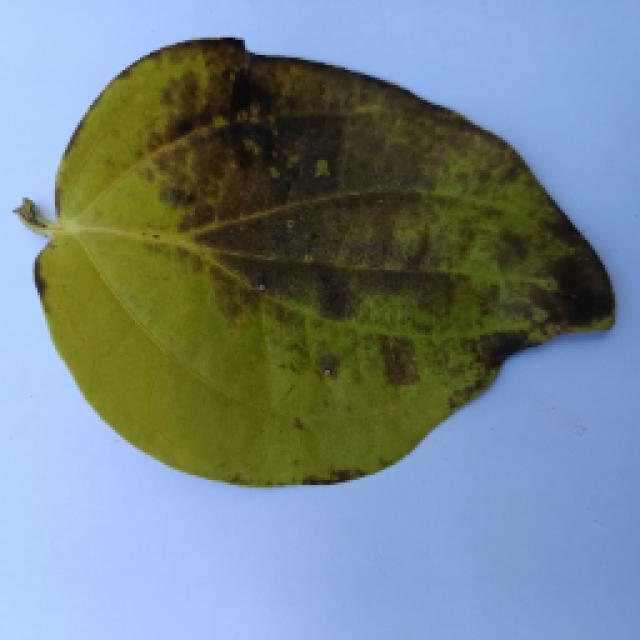slow-decline: (5, 48, 613, 492)
